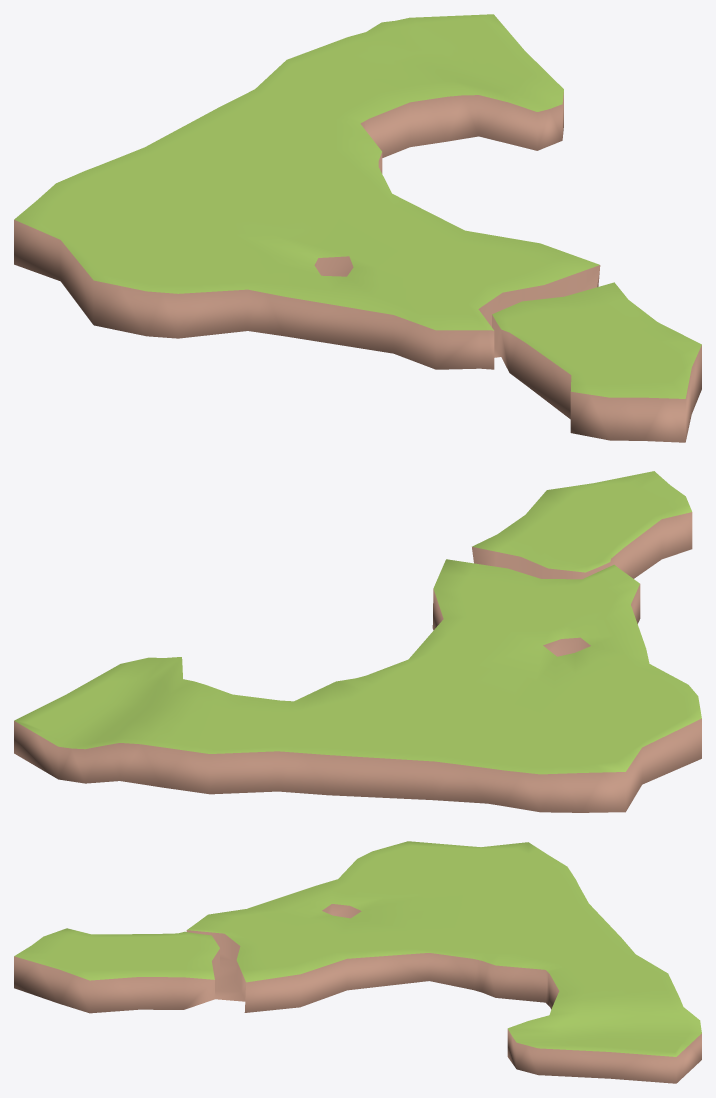
Rendered from ISLA_PRUEBA_LUZ.glb.
The picture shows the model from 3 angles, top to bottom: view 1: azimuth 30°, elevation 25°; view 2: azimuth 150°, elevation 25°; view 3: azimuth 270°, elevation 25°; orthographic projection. The views are drawn at different scales.
Parts seen in each view (by area): view 1: isla; view 2: isla; view 3: isla.
Boxes of the visible parts, x1,y1,x2,y2 form: isla: [14, 14, 701, 442]; isla: [14, 471, 701, 812]; isla: [14, 841, 701, 1083].
Size of what is drawn, in the model's own units: 35.24 by 2.75 by 49.2.
Materials: 1 (1 with a texture image).
